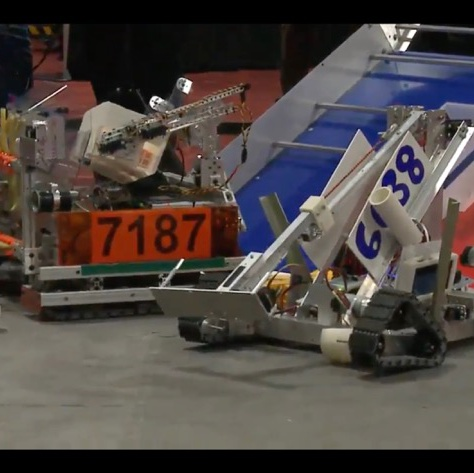robot: (153, 101, 474, 380), (0, 73, 259, 323)
